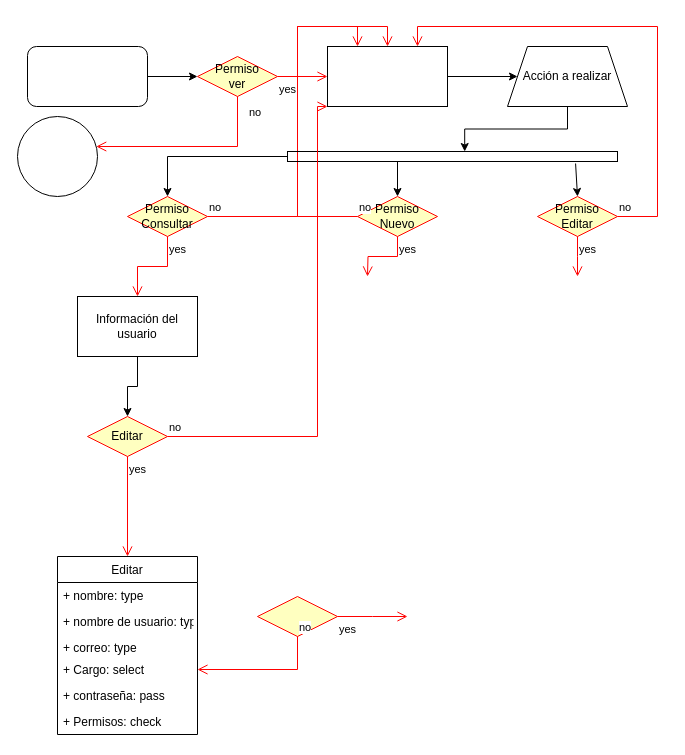
Image size: 685x755. Some labels were removed from this diagram. Here are the shapes that lost their labels. From the top down, the centre of each, then its label:
pixel 87 76: Usuario
pixel 387 76: Listado de usurarios en DB
pixel 57 156: Home
pixel 297 616: Correo unico
